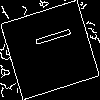I: (25, 24, 73, 52)
